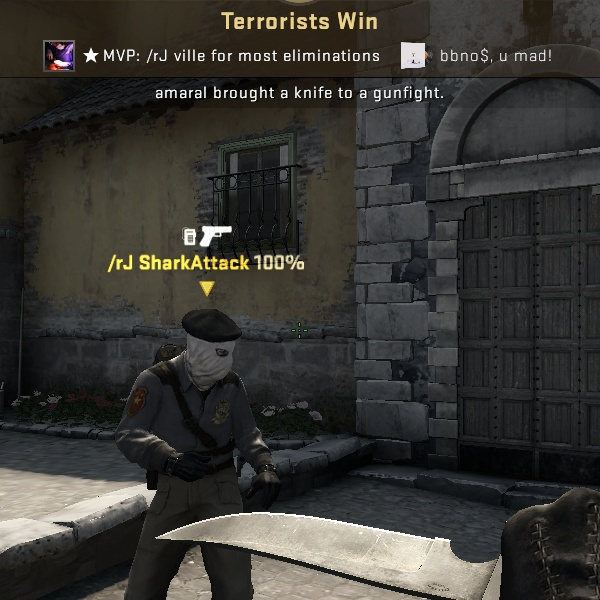t_body: (75, 307, 310, 592)
t_head: (167, 304, 256, 385)
